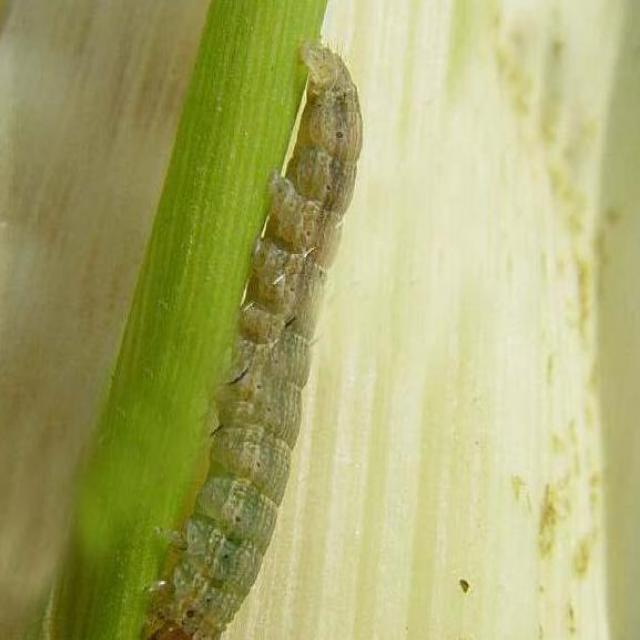BeetArmyWorm-Larva-: (135, 36, 375, 636)
